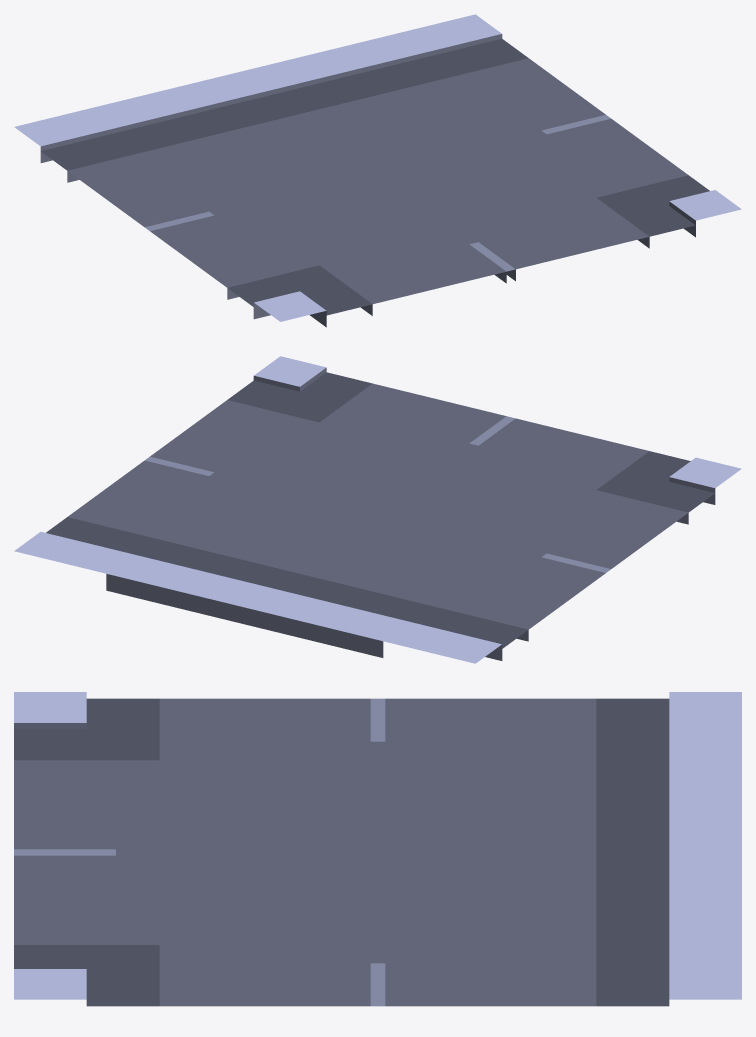
The model's file is road-intersection.glb.
3 views of the same model, one above another, from view 1: azimuth 30°, elevation 25°; view 2: azimuth 150°, elevation 25°; view 3: azimuth 270°, elevation 25° (orthographic). The views are drawn at different scales.
Visible parts, largest first — view 1: road-intersection; view 2: road-intersection; view 3: road-intersection.
Boxes of the visible parts, left/top/right/bottom form: road-intersection: left=14, top=14, right=741, bottom=327; road-intersection: left=14, top=356, right=741, bottom=663; road-intersection: left=14, top=692, right=741, bottom=1006.
Bounding box in the file's own units: 1 × 0.035 × 1.
1 material, 1 textured.
